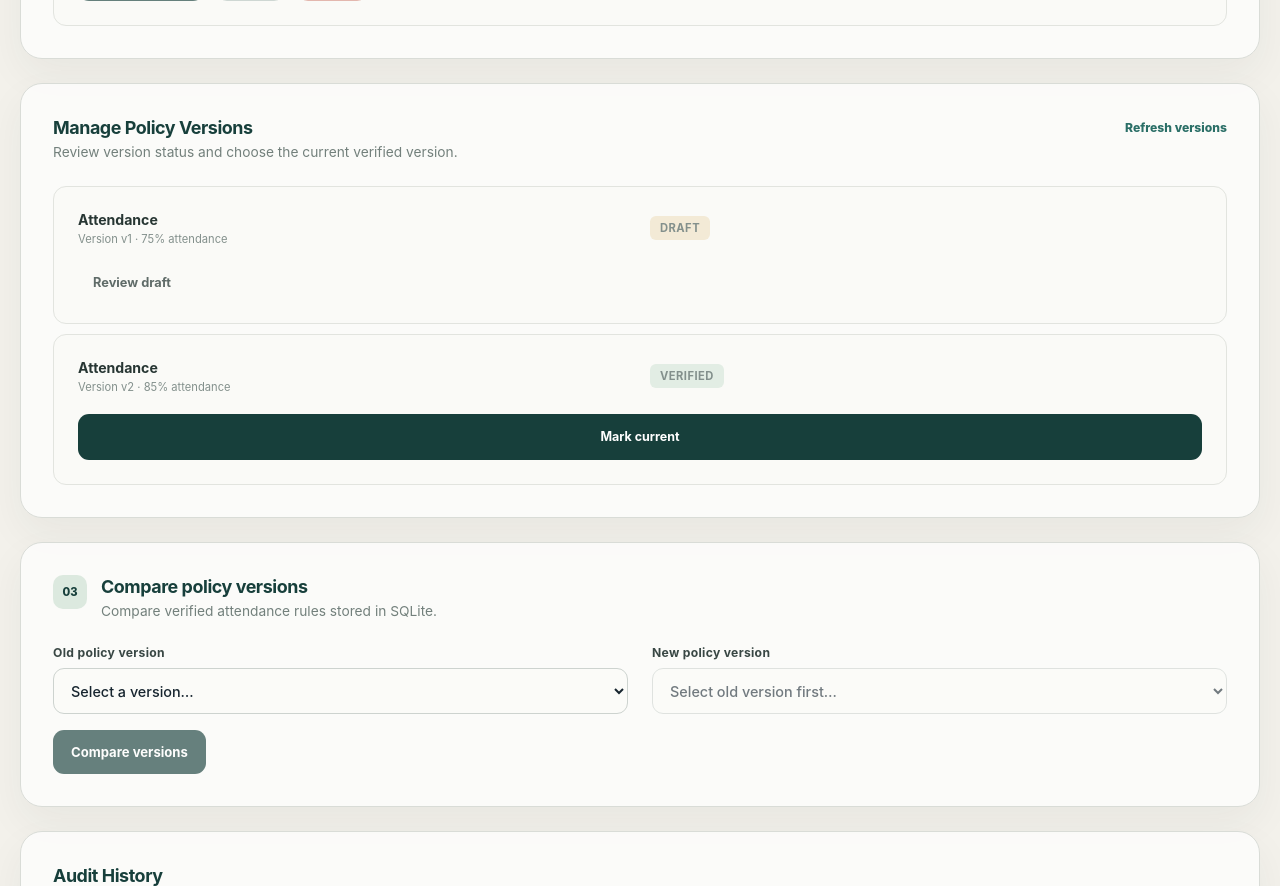
Test: returns to login when the backend rejects an admin token
(page scrolled)
Click the button "Mark current" at point(640, 437), box [78,414,1202,460]
(page scrolled)
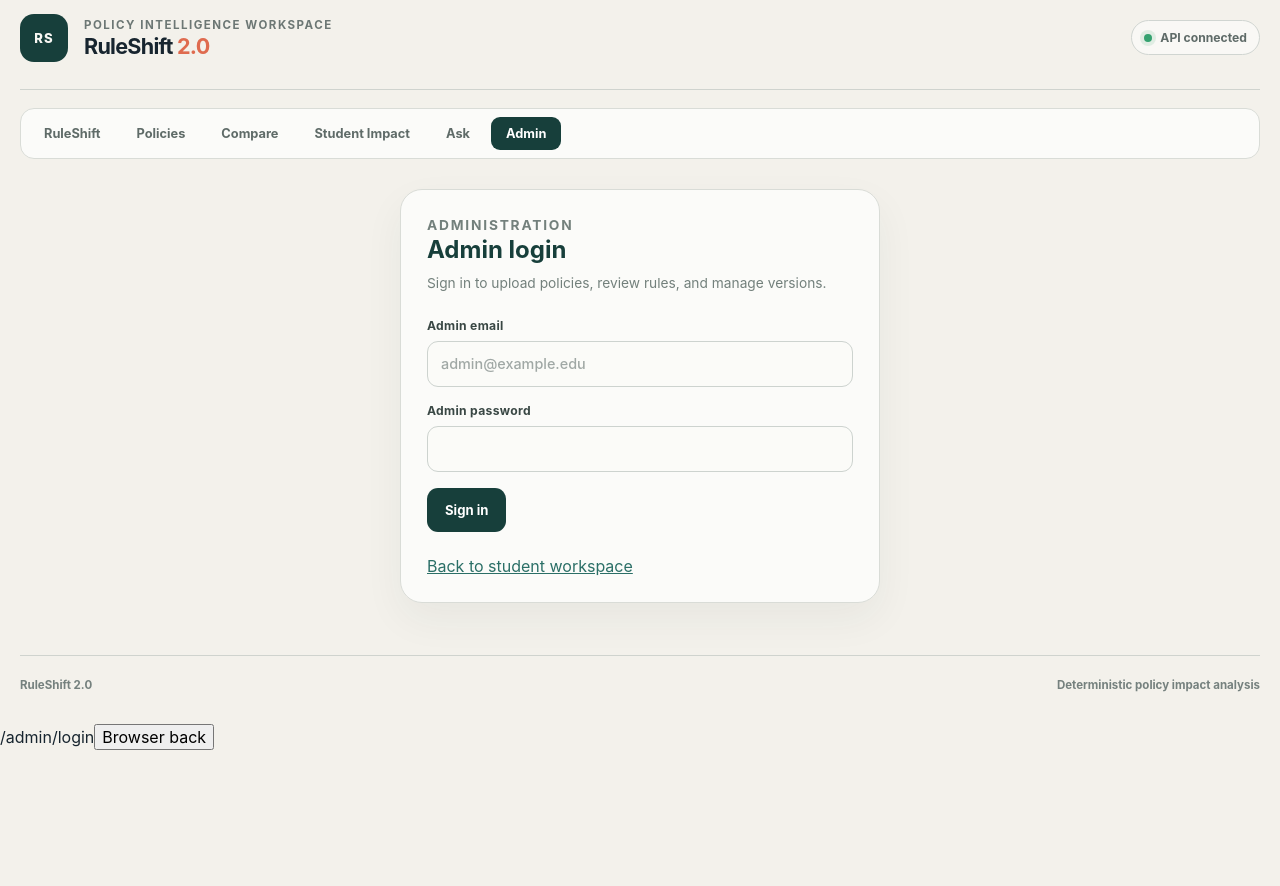
Now the heading "Admin login" is shown, box [427,235,566,264]
